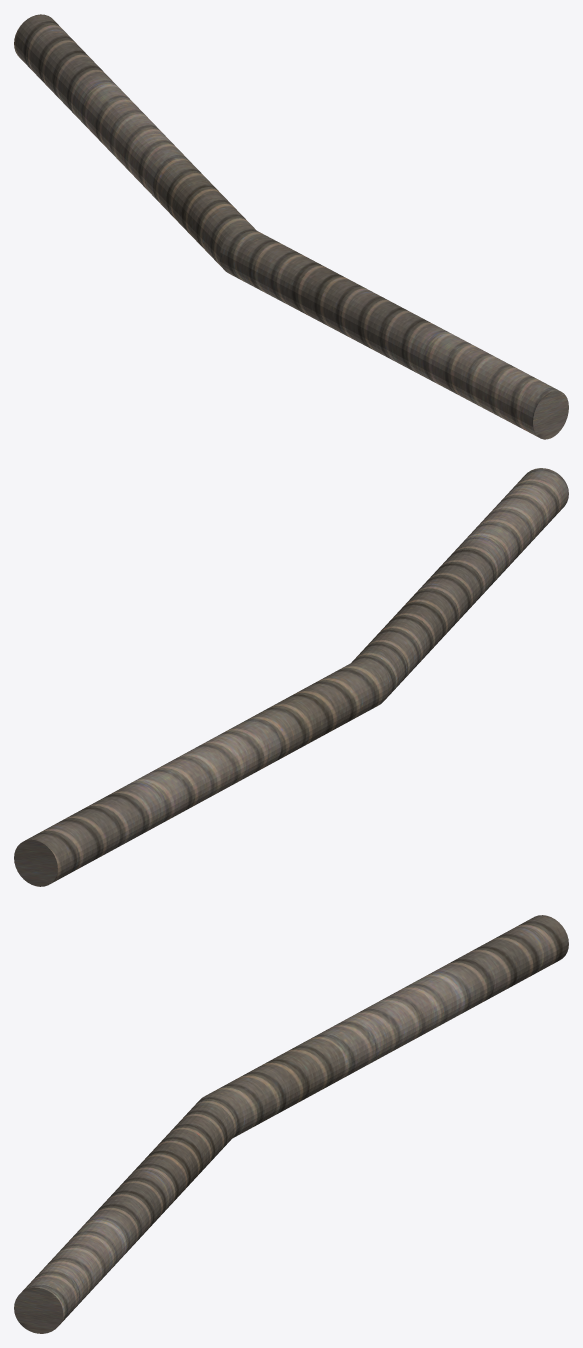
The model's file is RebarCurved.obj.
The picture shows the model from 3 angles, top to bottom: view 1: azimuth 30°, elevation 25°; view 2: azimuth 150°, elevation 25°; view 3: azimuth 330°, elevation 25°; orthographic projection.
Parts seen in each view (by area): view 1: Cylinder; view 2: Cylinder; view 3: Cylinder.
Boxes of the visible parts, bbox=[...] form: Cylinder: bbox=[14, 14, 568, 439]; Cylinder: bbox=[14, 468, 568, 886]; Cylinder: bbox=[14, 915, 568, 1333].
Bounding box in the file's own units: 9.76 × 3.98 × 80.51.
